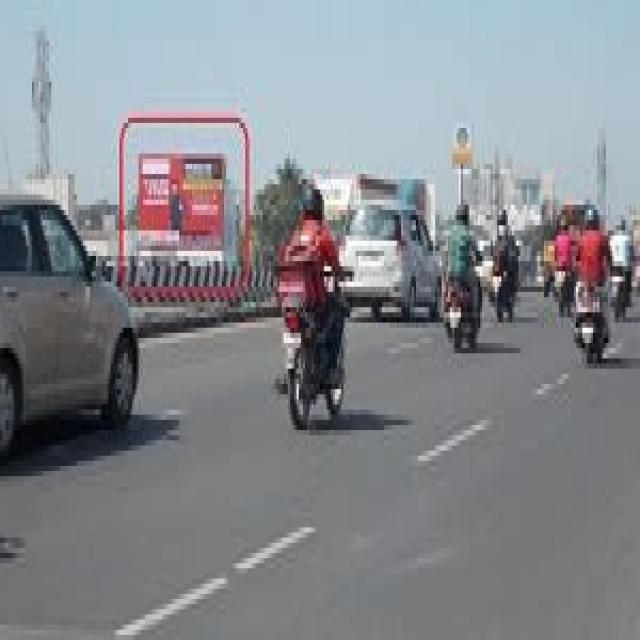Werbetafel frei: (132, 149, 221, 263)
